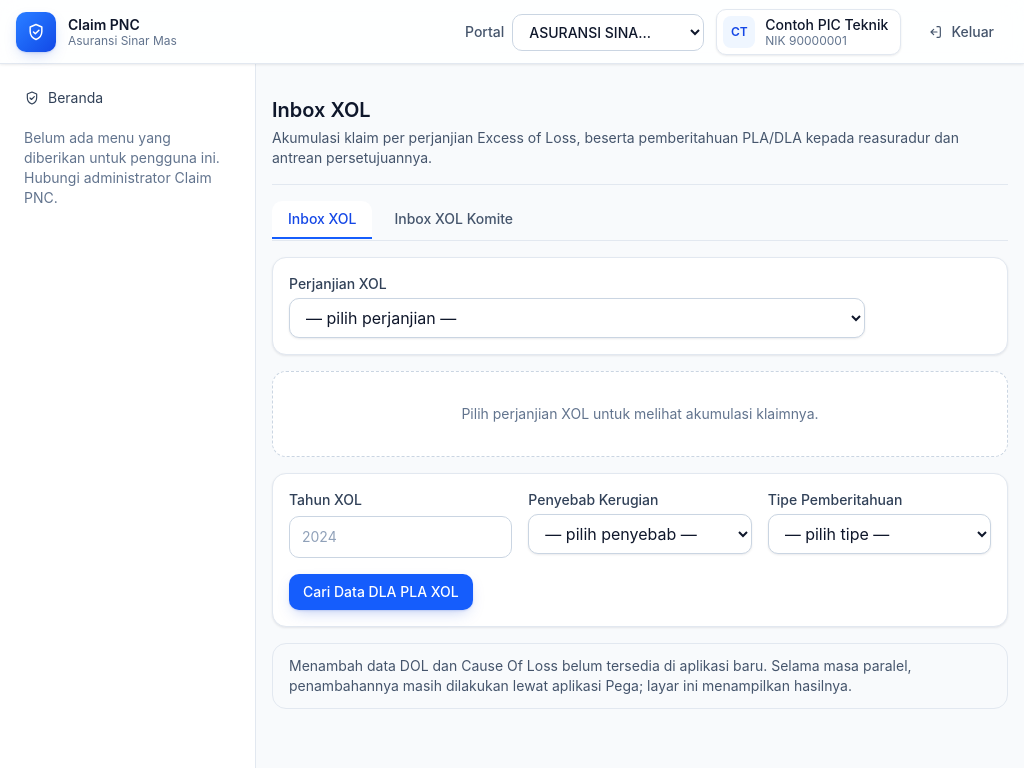
Test case: tab Inbox XOL › memuat rincian hanya saat sebuah baris dibuka
Select "2024 — Fire, Marine Cargo (kurs 15.500)" in the dropdown labelled "Perjanjian XOL" at (577, 318), box [289,298,865,338]
(page scrolled)
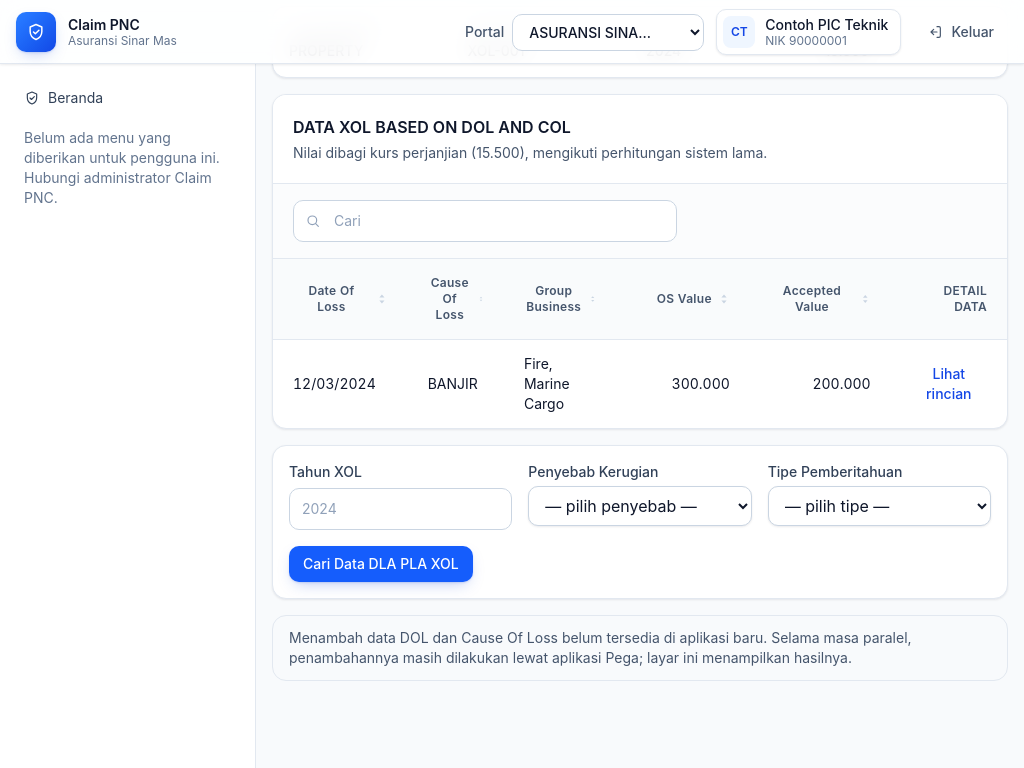
Check: the text "12/03/2024" is shown, box [293,375,376,392]
Click the button "Lihat rincian" at (949, 384), box [911,360,987,408]
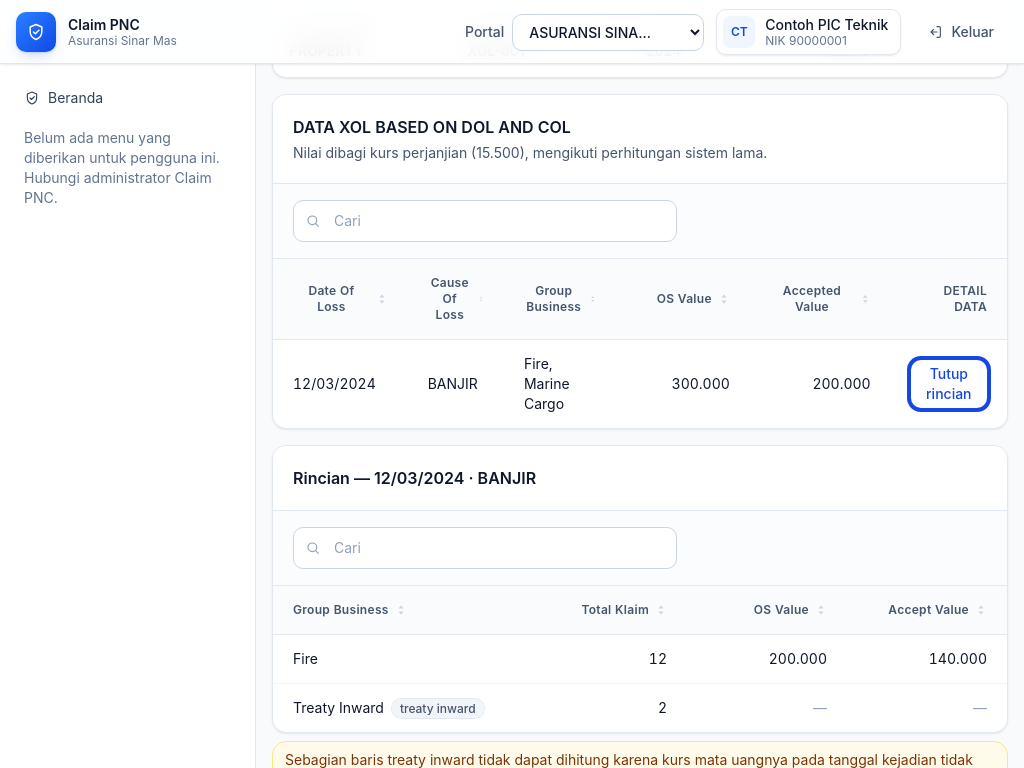
Check: the heading "Rincian — 12/03/2024 · BANJIR" is shown, box [293,466,536,490]
